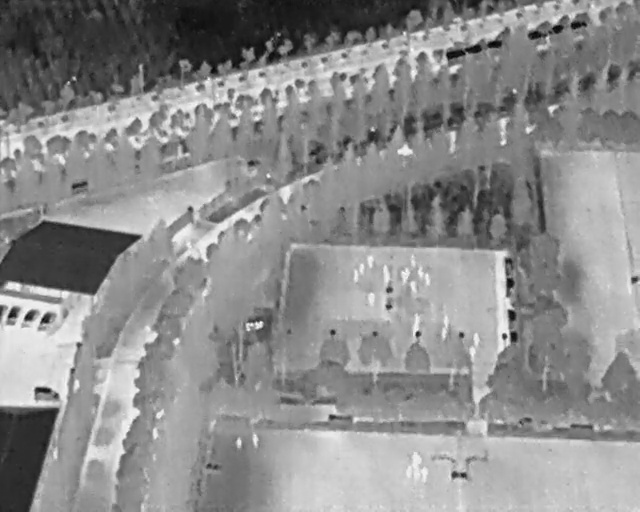Person: (411, 451, 422, 468), (420, 466, 428, 483), (413, 465, 421, 482), (251, 433, 260, 448), (425, 271, 432, 287), (401, 270, 408, 285), (368, 292, 375, 307), (473, 332, 480, 347), (235, 436, 242, 450), (367, 255, 374, 269), (384, 270, 391, 284), (358, 263, 365, 276), (469, 346, 476, 359), (405, 465, 412, 477), (404, 267, 411, 279), (442, 327, 448, 341), (410, 255, 416, 268), (418, 266, 424, 279), (353, 270, 359, 282), (382, 264, 388, 276), (444, 315, 449, 328)
